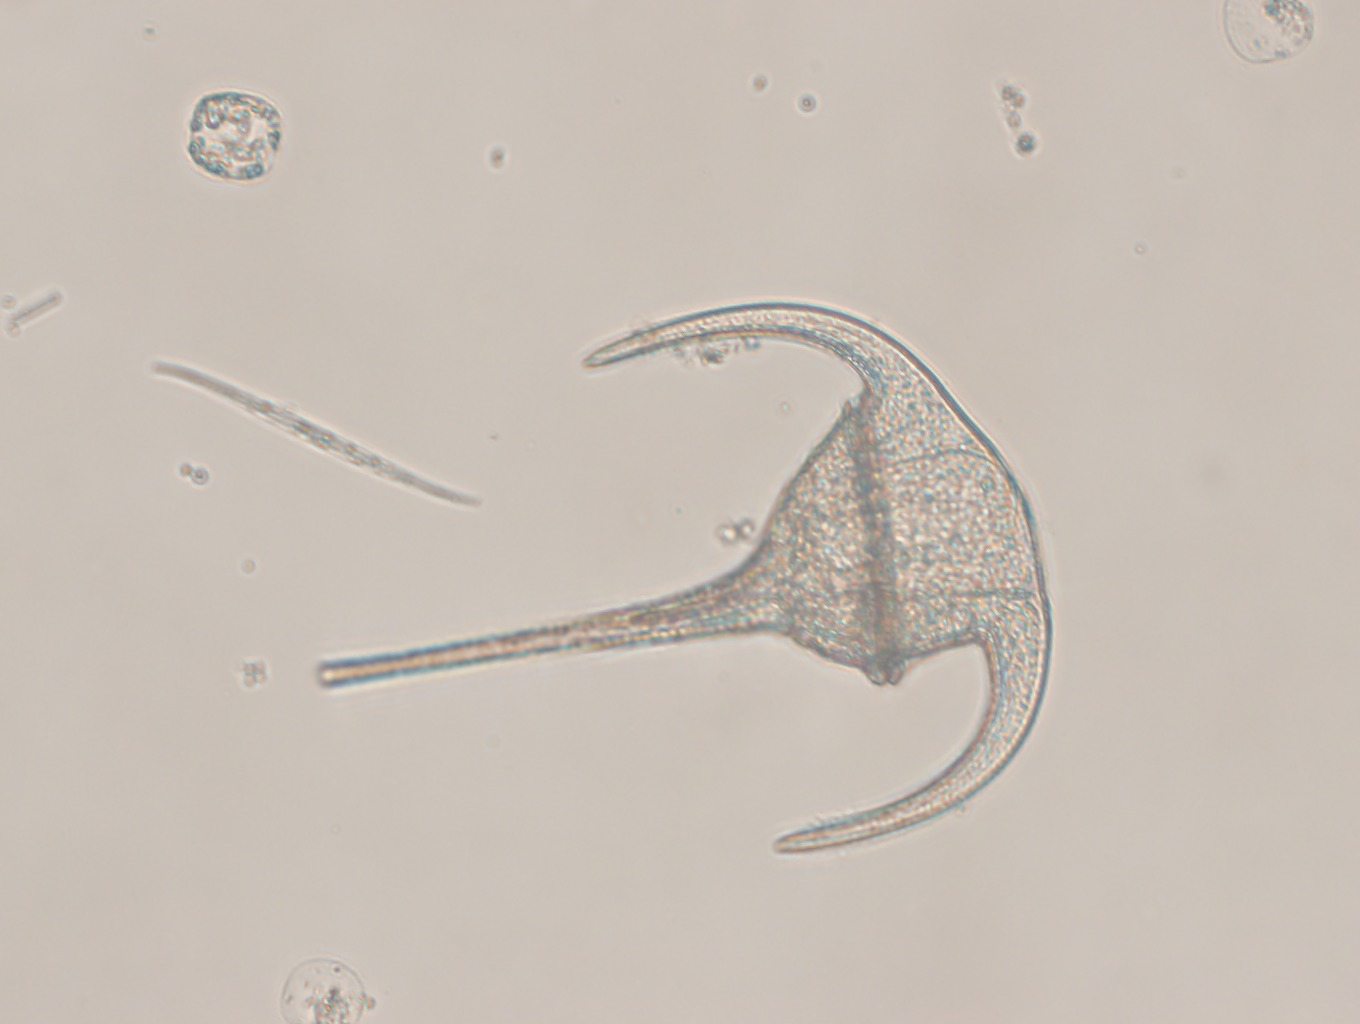ceratium tripos: (315, 297, 1054, 855)
pleurosigma pelagicum: (147, 360, 486, 514)
